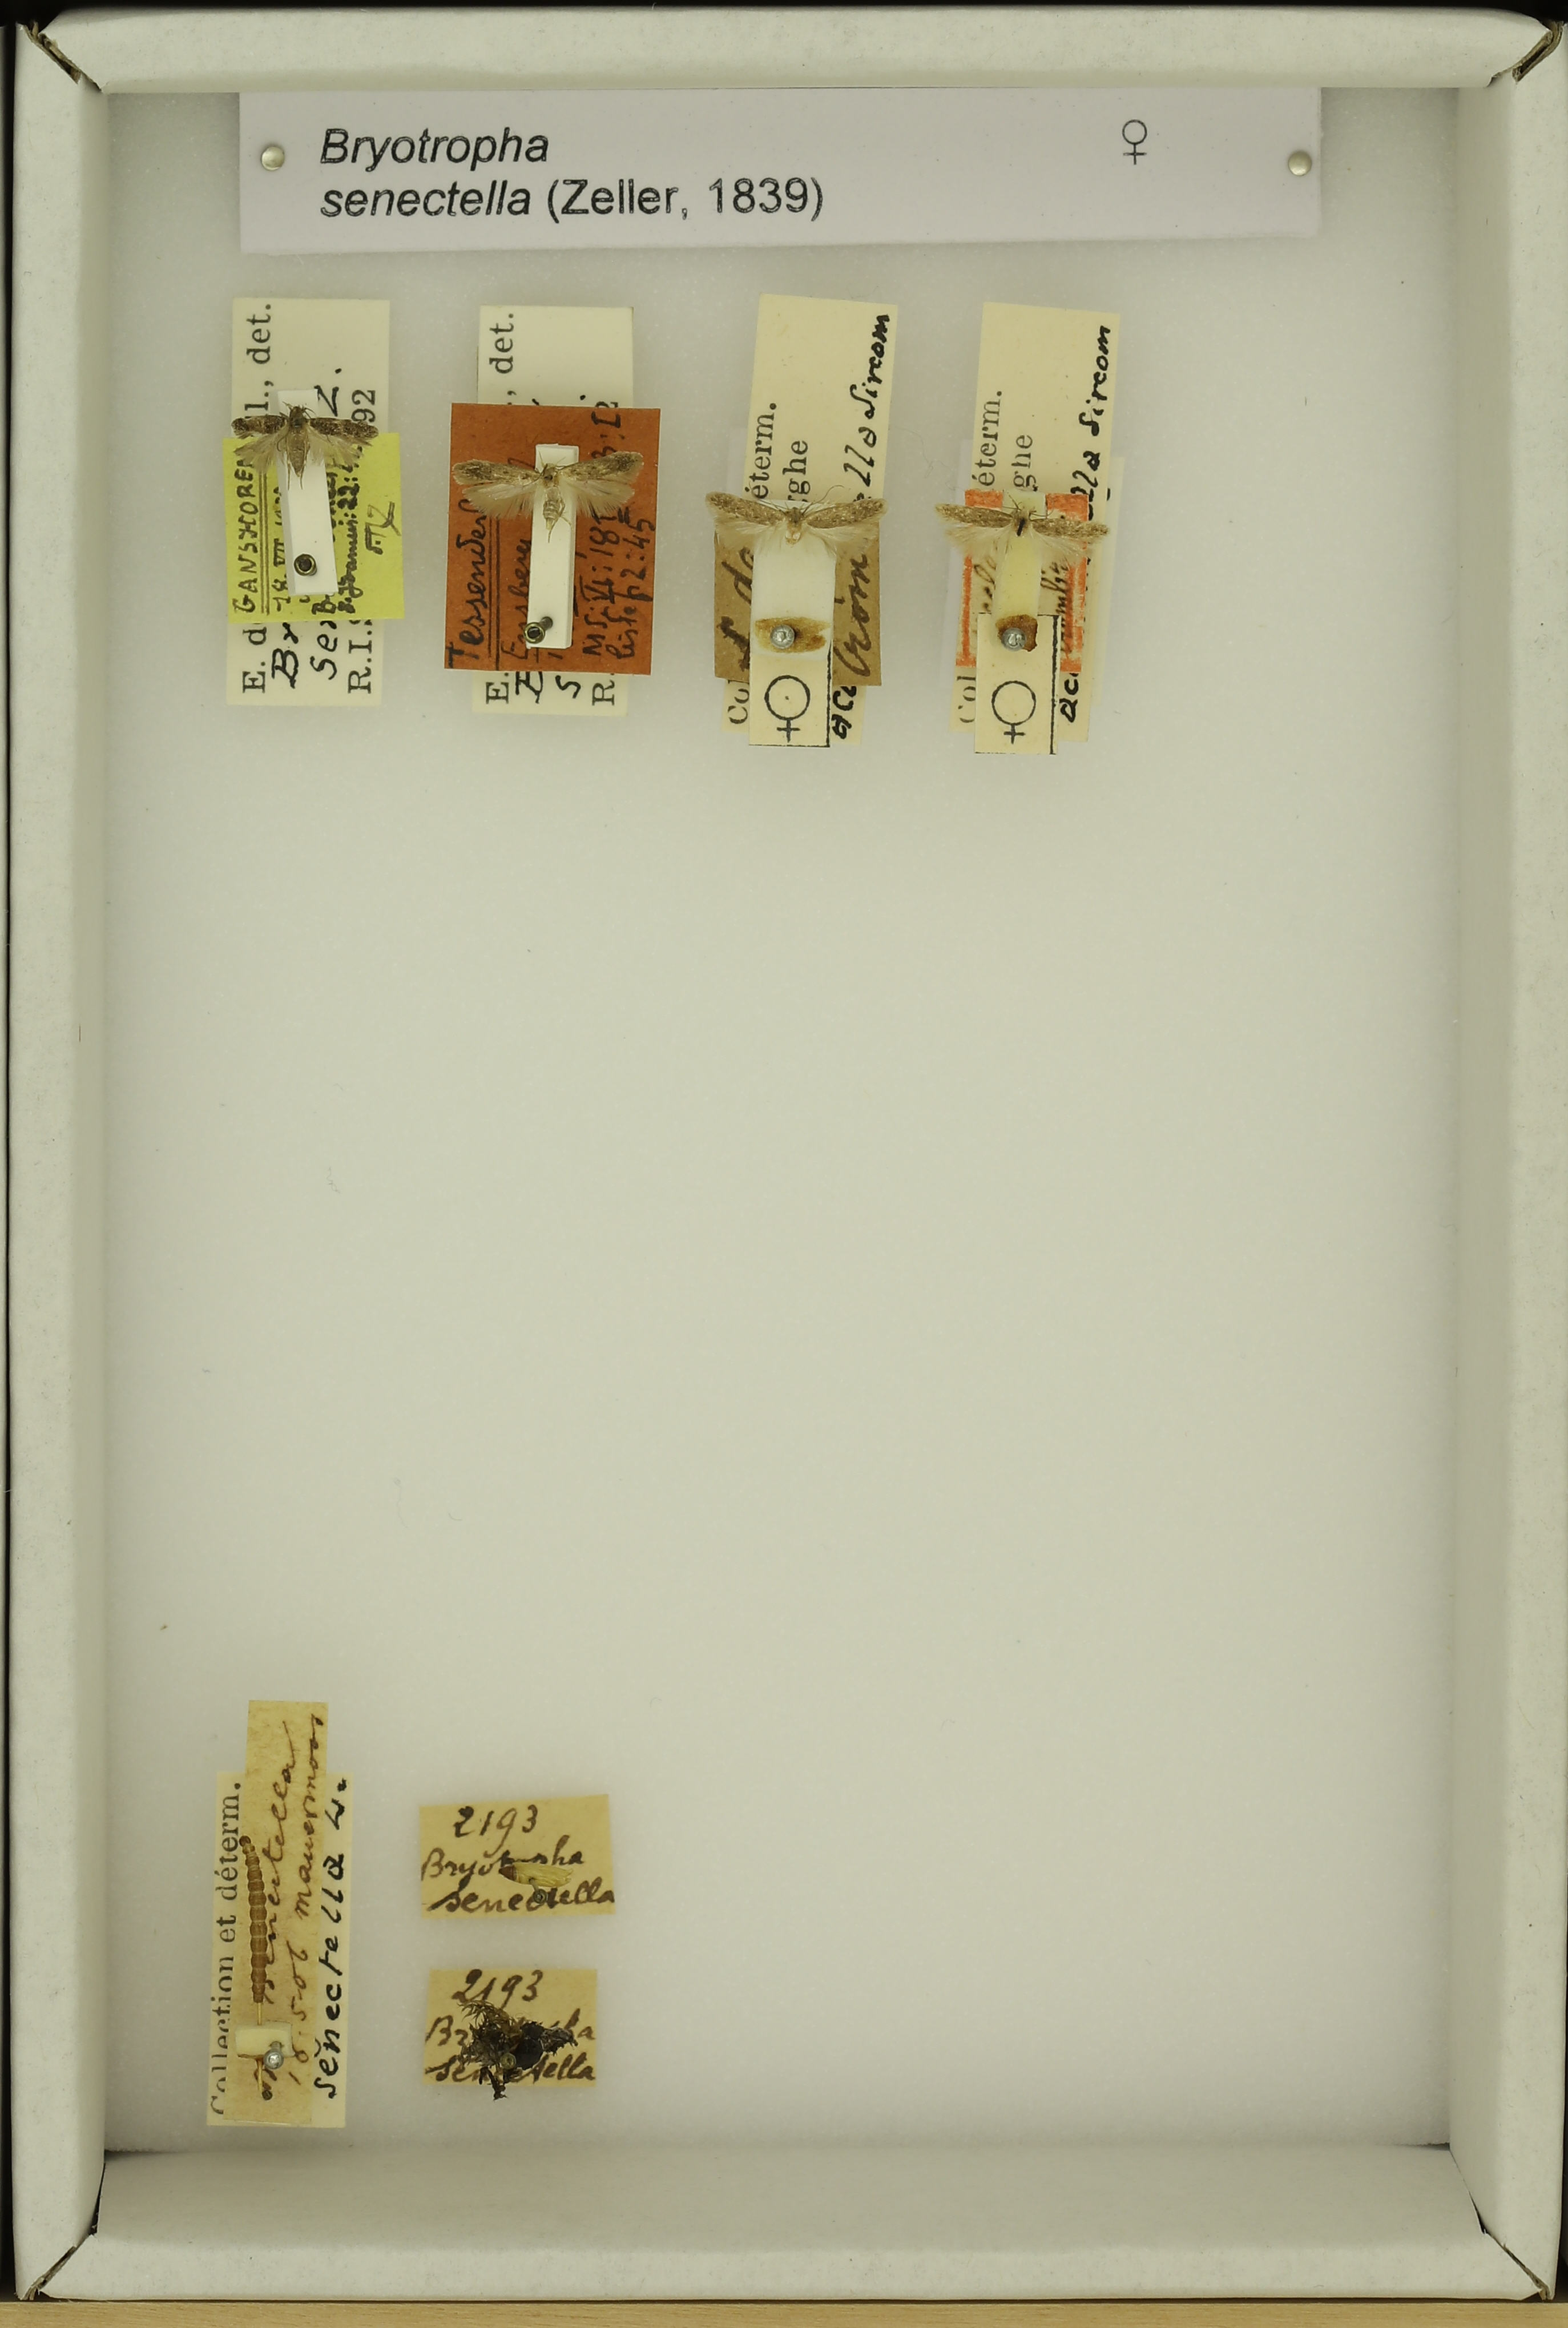insect: (697, 467, 893, 572), (440, 433, 652, 524), (929, 482, 1112, 577), (449, 1989, 581, 2098), (226, 397, 384, 480), (230, 1826, 279, 2012), (497, 1854, 578, 1894)
